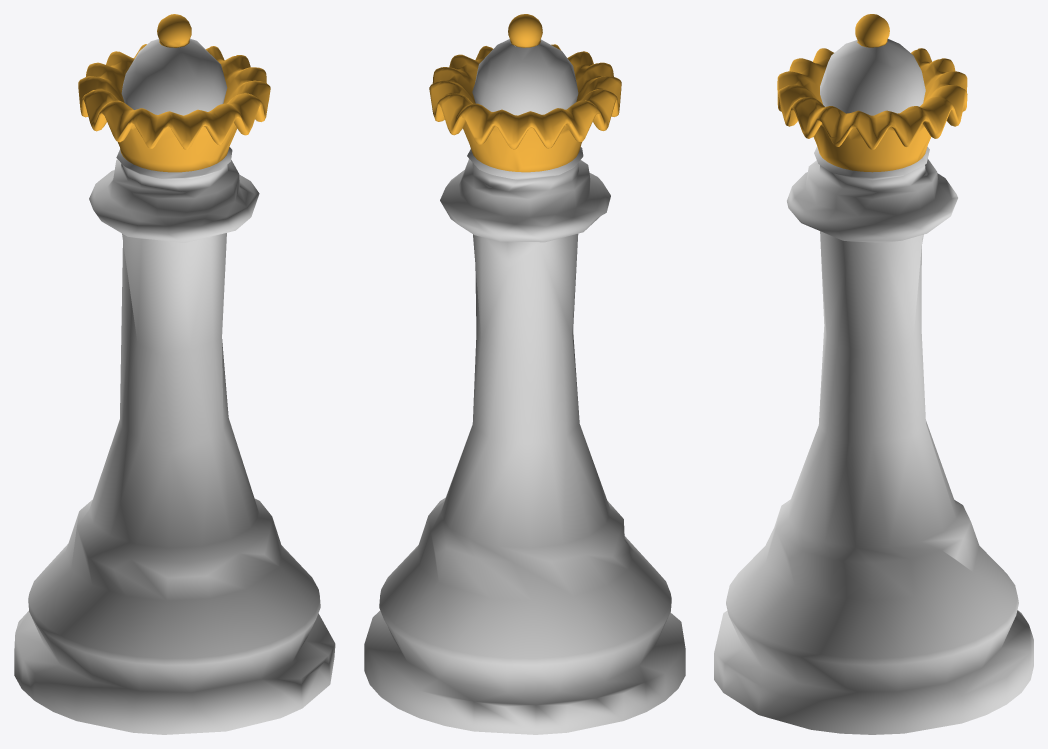
Rendered from gercek6_q_w.glb.
3 views of the same model, side by side, from view 1: azimuth 30°, elevation 25°; view 2: azimuth 150°, elevation 25°; view 3: azimuth 270°, elevation 25° (orthographic).
Parts seen in each view (by area): view 1: q_w_0, q_w_1; view 2: q_w_0, q_w_1; view 3: q_w_0, q_w_1.
Part boxes in pixels (box(x1,y1,x2,y2)): q_w_0: box(14, 38, 335, 734); q_w_1: box(78, 14, 270, 172); q_w_0: box(364, 39, 685, 734); q_w_1: box(429, 14, 621, 172); q_w_0: box(714, 39, 1033, 734); q_w_1: box(777, 14, 967, 172).
Bounding box in the file's own units: 0.403 × 0.8971 × 0.3992.
